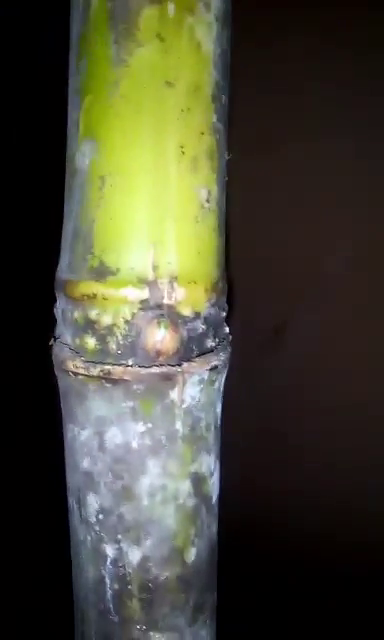cane eye: (132, 308, 191, 371)
